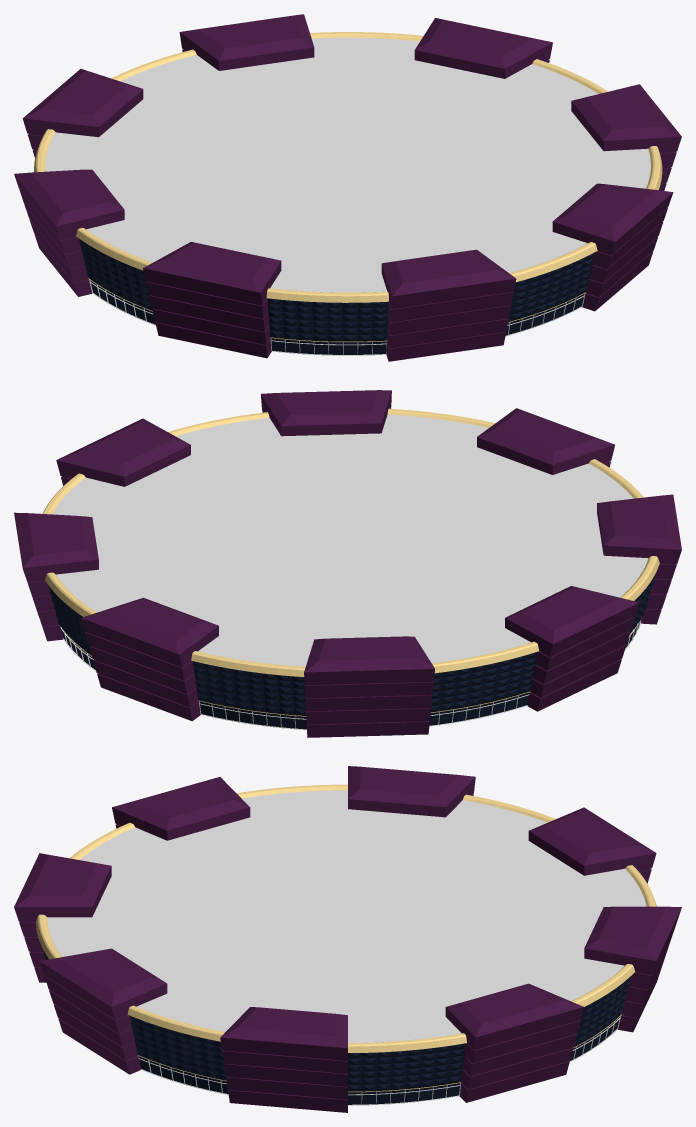
Rendered from Aranegus.fbx.
3 views of the same model, one above another, from view 1: azimuth 30°, elevation 25°; view 2: azimuth 150°, elevation 25°; view 3: azimuth 270°, elevation 25° (orthographic).
Parts seen in each view (by area): view 1: Stadium_Roof, Stadium_Purple, Stadium_Pattern, Stadium_Detail, Stadium_Windows, Stadium_Frame; view 2: Stadium_Roof, Stadium_Purple, Stadium_Pattern, Stadium_Detail, Stadium_Windows, Stadium_Frame; view 3: Stadium_Roof, Stadium_Purple, Stadium_Pattern, Stadium_Detail, Stadium_Windows, Stadium_Frame.
Part boxes in pixels (<box>): Stadium_Roof: <box>45,37,650,292</box>; Stadium_Purple: <box>14,14,681,361</box>; Stadium_Pattern: <box>79,239,594,341</box>; Stadium_Detail: <box>34,32,662,342</box>; Stadium_Windows: <box>90,280,584,354</box>; Stadium_Frame: <box>89,279,585,355</box>; Stadium_Roof: <box>52,414,648,666</box>; Stadium_Purple: <box>14,390,681,737</box>; Stadium_Pattern: <box>48,574,655,715</box>; Stadium_Detail: <box>42,408,659,716</box>; Stadium_Windows: <box>62,622,639,729</box>; Stadium_Frame: <box>60,617,641,729</box>; Stadium_Roof: <box>47,790,646,1042</box>; Stadium_Purple: <box>14,766,681,1112</box>; Stadium_Pattern: <box>41,947,631,1091</box>; Stadium_Detail: <box>36,784,656,1092</box>; Stadium_Windows: <box>139,1017,619,1104</box>; Stadium_Frame: <box>137,1016,620,1105</box>.
Size of the model in its own units: 24244 by 3252 by 24244.
